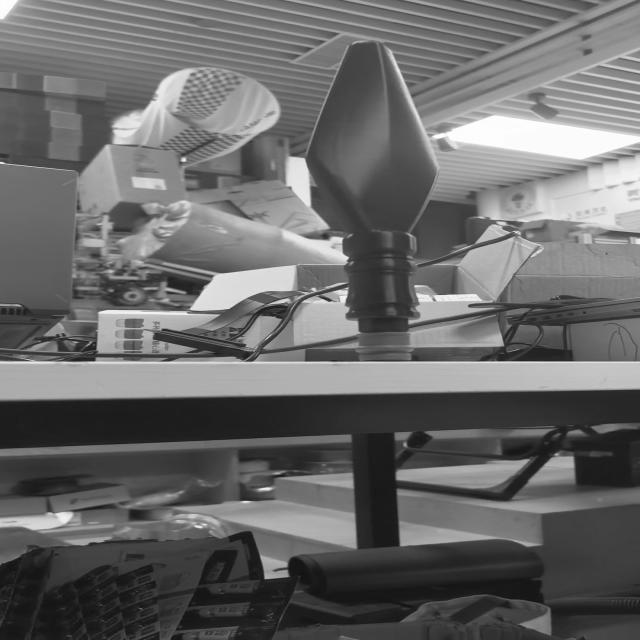base: (355, 326, 411, 361)
